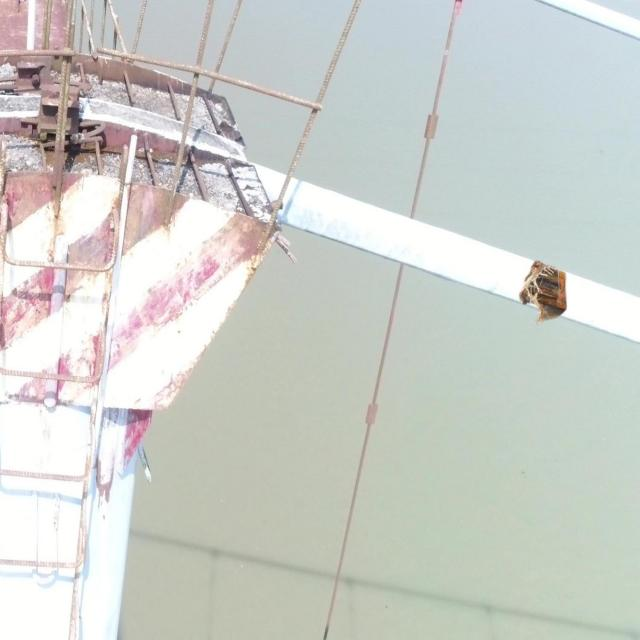corrosion: (519, 260, 568, 325)
